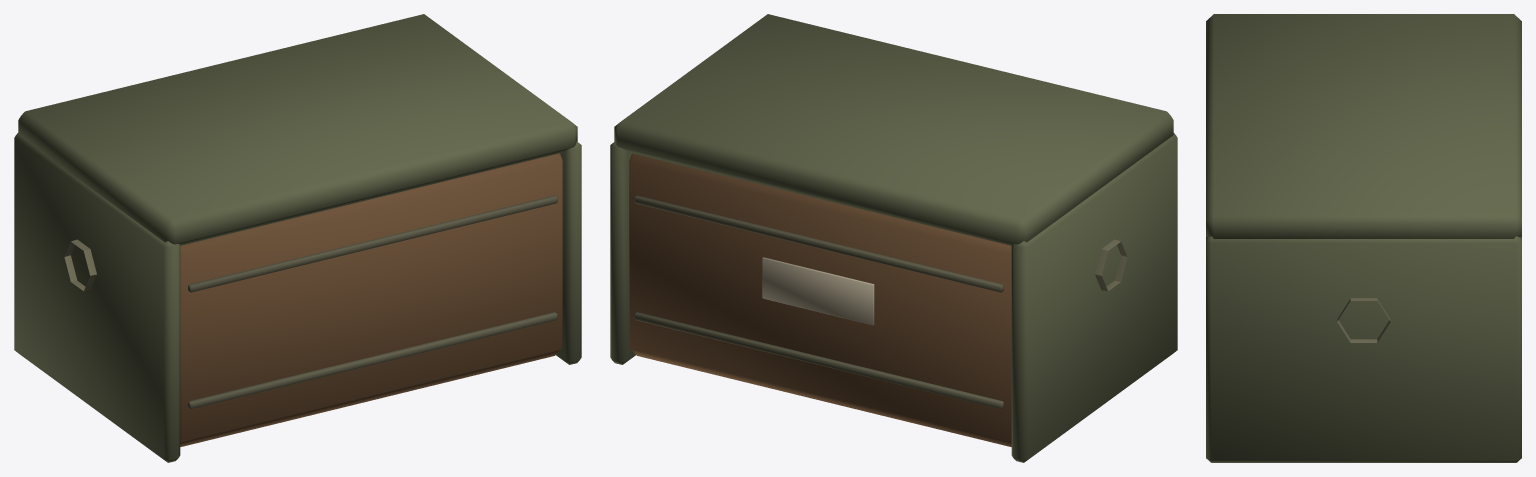
File: chest_0.glb
3 renders of one model, left to right at view 1: azimuth 30°, elevation 25°; view 2: azimuth 150°, elevation 25°; view 3: azimuth 270°, elevation 25°, orthographic. The views are drawn at different scales.
Parts seen in each view (by area): view 1: chest_0; view 2: chest_0; view 3: chest_0.
Part boxes in pixels (x1=…): chest_0: x1=14, y1=14, x2=581, y2=462; chest_0: x1=610, y1=14, x2=1177, y2=462; chest_0: x1=1206, y1=14, x2=1521, y2=462.
Bounding box in the file's own units: 0.792 × 0.415 × 0.48.
Materials: 1 (1 with a texture image).
